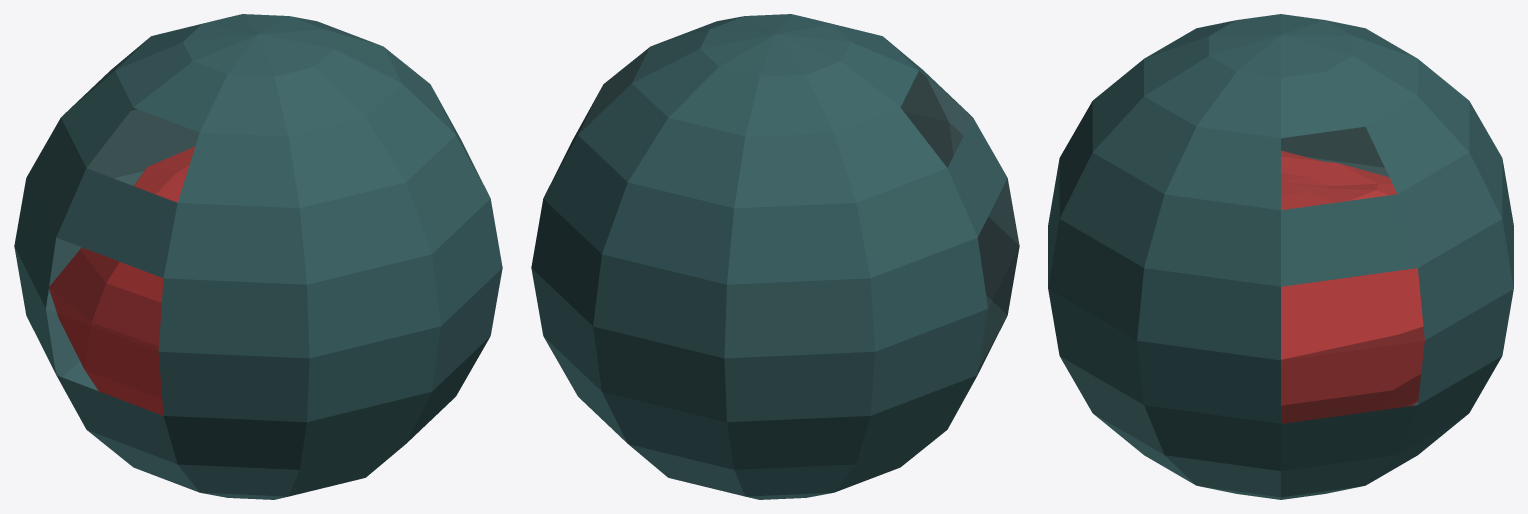
File: healthPickUp.fbx
3 views of the same model, side by side, from view 1: azimuth 30°, elevation 25°; view 2: azimuth 150°, elevation 25°; view 3: azimuth 270°, elevation 25° (orthographic).
Parts seen in each view (by area): view 1: OrbHealth; view 2: OrbHealth; view 3: OrbHealth.
Part boxes in pixels (box(x1,y1,x2,y2)): OrbHealth: box(14, 14, 502, 499); OrbHealth: box(531, 14, 1019, 499); OrbHealth: box(1048, 14, 1513, 499).
Size of the model in its own units: 0.1456 by 0.1456 by 0.1385.
